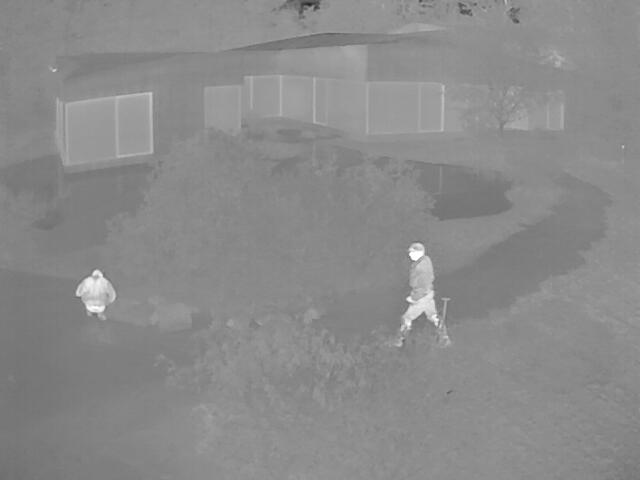person: (393, 241, 445, 345), (73, 268, 116, 324)
